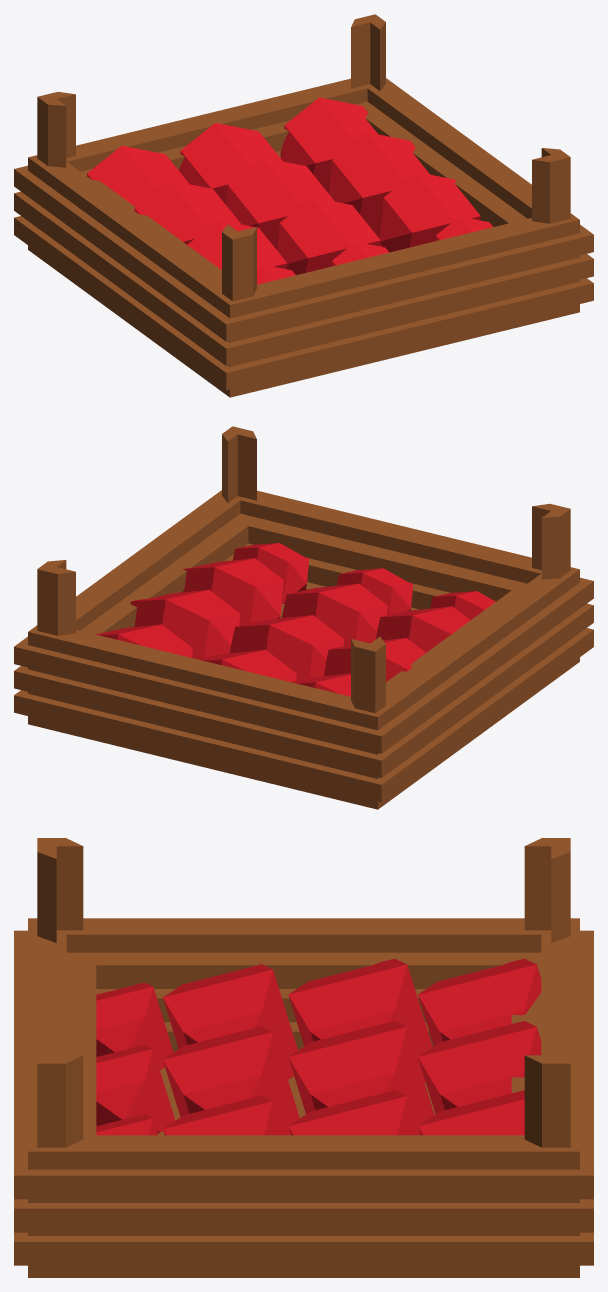
Rendered from Fruit_Boxes.fbx.
The picture shows the model from 3 angles, top to bottom: view 1: azimuth 30°, elevation 25°; view 2: azimuth 150°, elevation 25°; view 3: azimuth 270°, elevation 25°; orthographic projection. The views are drawn at different scales.
Visible parts, largest first — view 1: Cube.017, Cube.016, Sphere.003; view 2: Cube.017, Cube.016, Sphere.003; view 3: Cube.017, Cube.016, Sphere.003.
Boxes of the visible parts, x1,y1,x2,y2 form: Cube.017: (14, 101, 593, 390); Cube.016: (28, 14, 579, 397); Sphere.003: (87, 97, 492, 284); Cube.017: (14, 513, 593, 802); Cube.016: (28, 426, 579, 809); Sphere.003: (95, 543, 495, 696); Cube.017: (14, 930, 593, 1265); Cube.016: (28, 838, 579, 1277); Sphere.003: (96, 958, 541, 1135).
Size of the model in its own units: 44.9 by 18.48 by 44.9.
